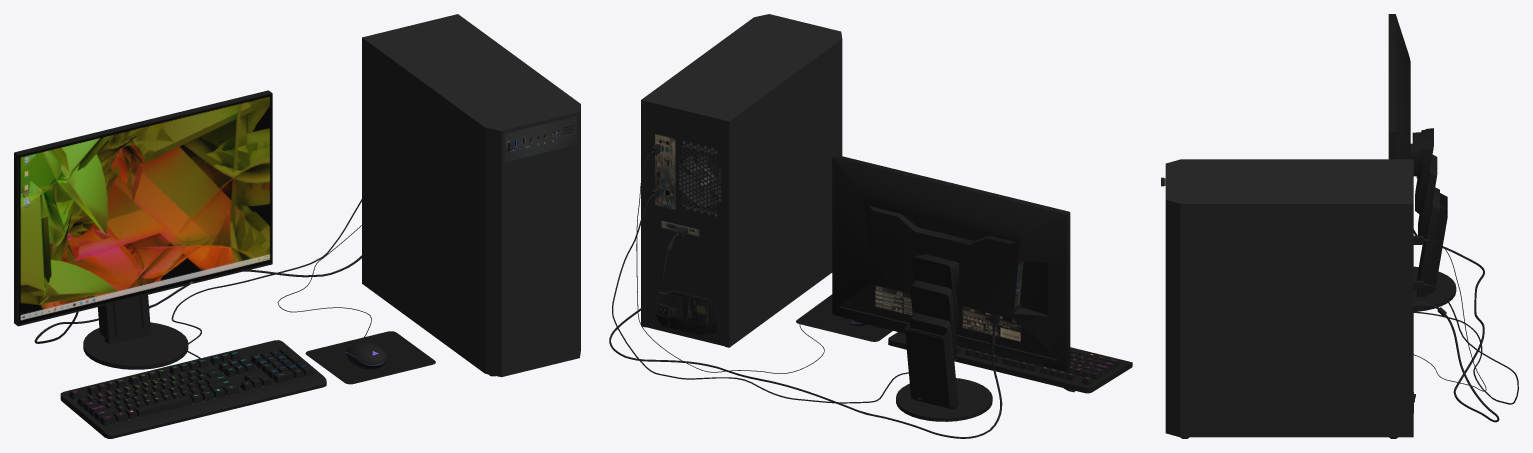
3 views of the same model, side by side, from view 1: azimuth 30°, elevation 25°; view 2: azimuth 150°, elevation 25°; view 3: azimuth 270°, elevation 25° (orthographic). The views are drawn at different scales.
Parts seen in each view (by area): view 1: pc_01_18, Monitor_01_7, Keyboard_1_4, Keyboard_2_5, Monitor_09_15, Pad_3, Monitor_07_13, Mouse_1_16, Cord_1_0, Cord_2_1; view 2: pc_01_18, Monitor_01_7, Monitor_08_14, Monitor_09_15, Keyboard_2_5, Keyboard_1_4, Cord_1_0, Pad_3, Monitor_06_12, Monitor_05_11, Cord_2_1, Monitor_07_13 (+3 smaller); view 3: pc_01_18, Monitor_01_7, Cord_1_0, Monitor_07_13, Monitor_08_14, Monitor_09_15, Monitor_05_11, Monitor_06_12, Cord_2_1, Cord_3_2, Monitor_03_9.
Boxes of the visible parts, x1=… form: pc_01_18: x1=362, y1=14, x2=580, y2=377; Monitor_01_7: x1=14, y1=90, x2=272, y2=326; Keyboard_1_4: x1=69, y1=347, x2=313, y2=425; Keyboard_2_5: x1=60, y1=340, x2=326, y2=438; Monitor_09_15: x1=83, y1=322, x2=188, y2=369; Pad_3: x1=305, y1=331, x2=435, y2=384; Monitor_07_13: x1=102, y1=295, x2=150, y2=344; Mouse_1_16: x1=345, y1=342, x2=386, y2=369; Cord_1_0: x1=34, y1=255, x2=361, y2=343; Cord_2_1: x1=171, y1=199, x2=361, y2=358; pc_01_18: x1=641, y1=14, x2=842, y2=347; Monitor_01_7: x1=832, y1=155, x2=1070, y2=371; Monitor_08_14: x1=905, y1=322, x2=954, y2=409; Monitor_09_15: x1=896, y1=378, x2=992, y2=421; Keyboard_2_5: x1=888, y1=332, x2=1132, y2=393; Keyboard_1_4: x1=957, y1=346, x2=1121, y2=384; Cord_1_0: x1=609, y1=226, x2=1002, y2=438; Pad_3: x1=796, y1=294, x2=892, y2=341; Monitor_06_12: x1=910, y1=280, x2=957, y2=357; Monitor_05_11: x1=912, y1=255, x2=958, y2=327; Cord_2_1: x1=612, y1=187, x2=957, y2=403; Monitor_07_13: x1=909, y1=313, x2=958, y2=408; pc_01_18: x1=1165, y1=159, x2=1413, y2=437; Monitor_01_7: x1=1388, y1=14, x2=1410, y2=159; Cord_1_0: x1=1413, y1=229, x2=1499, y2=422; Monitor_07_13: x1=1417, y1=187, x2=1439, y2=297; Monitor_08_14: x1=1425, y1=193, x2=1447, y2=296; Monitor_09_15: x1=1413, y1=266, x2=1456, y2=311; Monitor_05_11: x1=1415, y1=128, x2=1433, y2=215; Monitor_06_12: x1=1418, y1=155, x2=1437, y2=244; Cord_2_1: x1=1413, y1=280, x2=1518, y2=404; Cord_3_2: x1=1413, y1=235, x2=1486, y2=391; Monitor_03_9: x1=1412, y1=132, x2=1421, y2=176.
Size of the model in its own units: 0.9445 by 0.4998 by 0.6805.
Materials: 6 (4 with a texture image).
